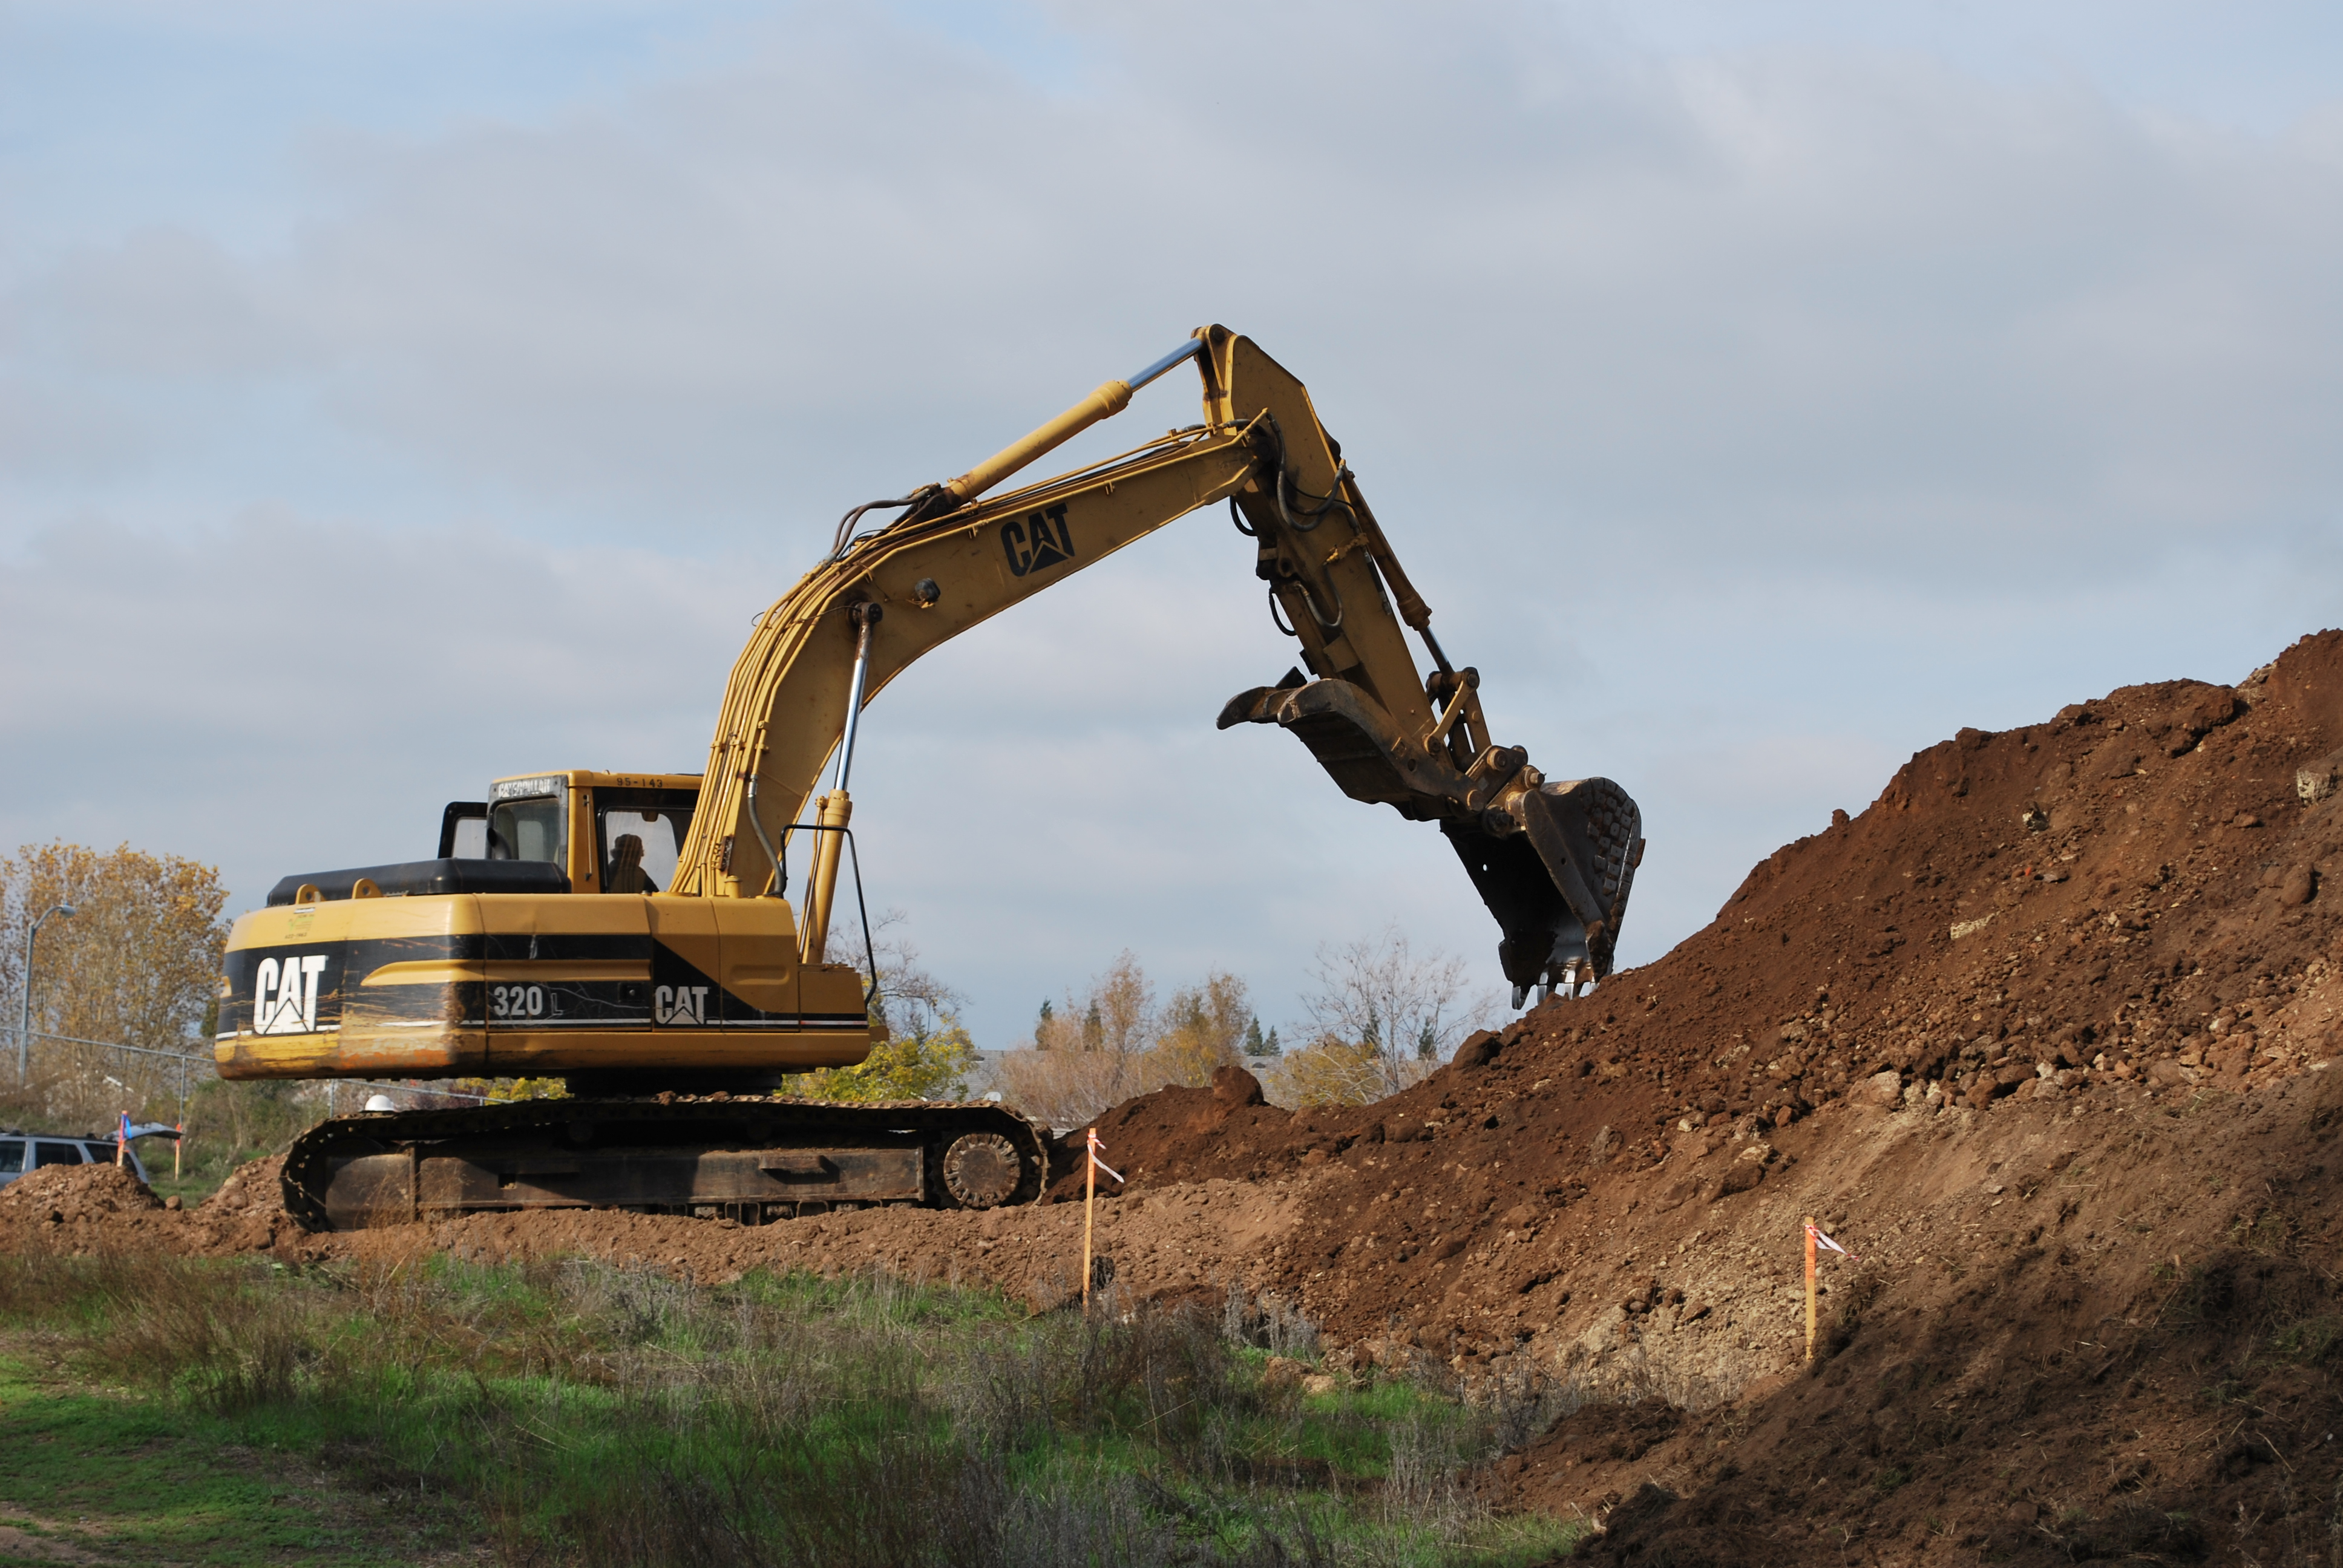excavator: (201, 283, 1666, 1263)
